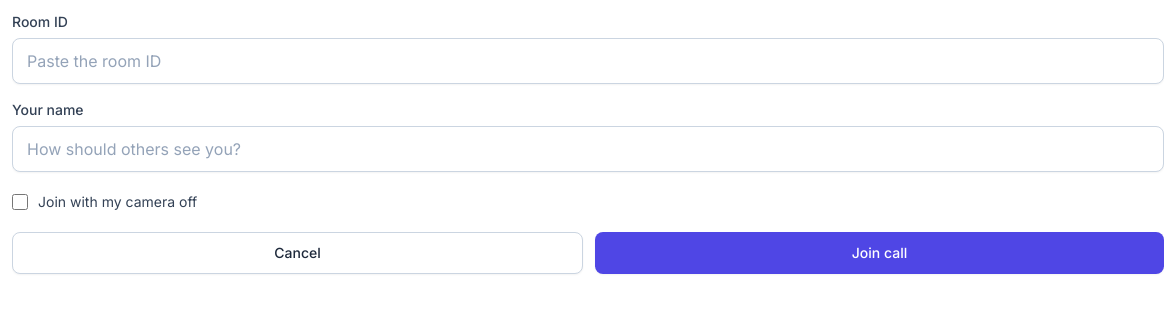
Scenario: JoinRoomContent › joining a call (guest) › says so when there is no such room
The width and height of the screenshot is (1176, 313).
Type "nope" into the field labelled "Room ID" at (588, 61), box [12,38,1164,84]
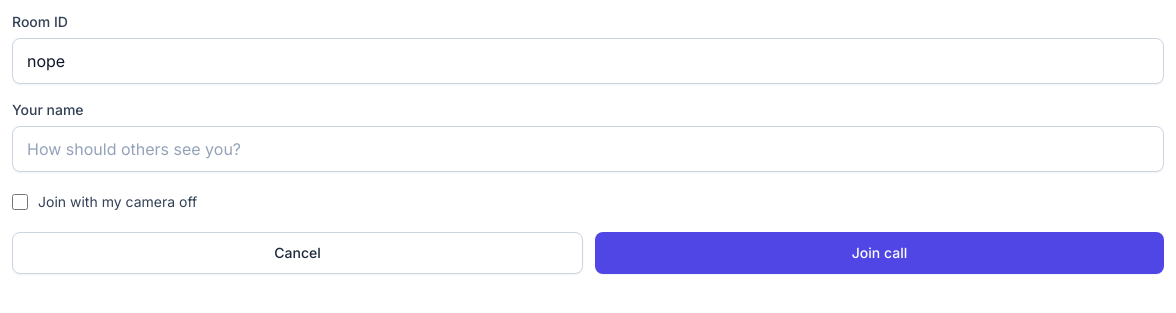
Type "Bob" into the field labelled "Your name" at (588, 149), box [12,126,1164,172]
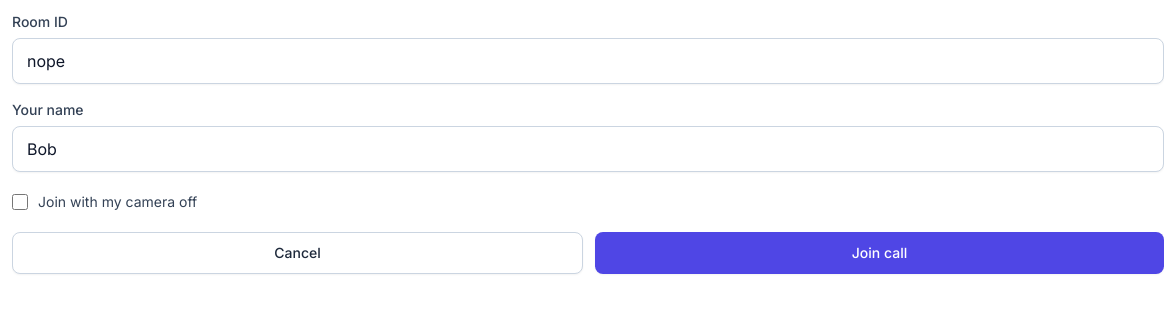
Click the button "Join call" at (880, 253), box [595,232,1164,274]
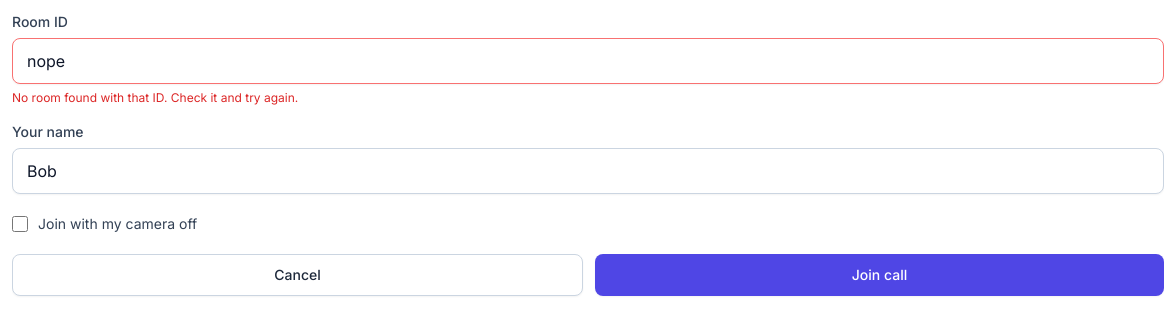
Result: the text "No room found with that ID. Check it and try again." is shown at [12,90,298,105]
